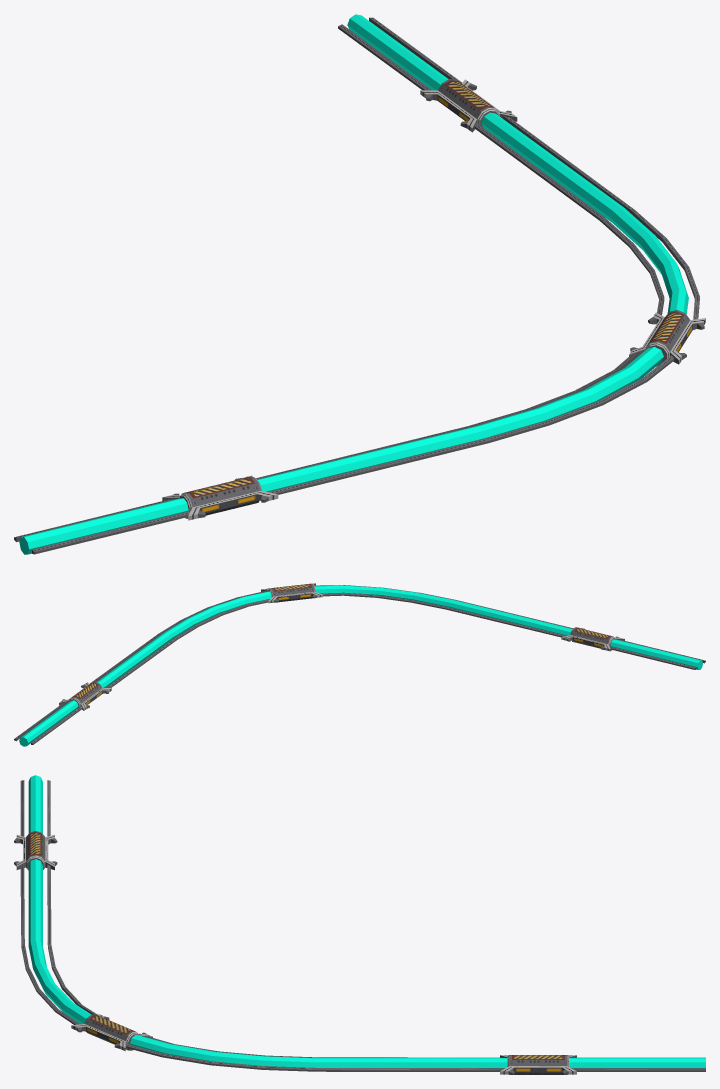
File: SM_Bld_Train_Rail_Curve_Short_01.fbx
3 views of the same model, one above another, from view 1: azimuth 30°, elevation 25°; view 2: azimuth 150°, elevation 25°; view 3: azimuth 270°, elevation 25° (orthographic). The views are drawn at different scales.
Visible parts, largest first — view 1: SM_Bld_Train_Rail_Curve_Short_01; view 2: SM_Bld_Train_Rail_Curve_Short_01; view 3: SM_Bld_Train_Rail_Curve_Short_01.
Part boxes in pixels (left/top/right/bottom): SM_Bld_Train_Rail_Curve_Short_01: left=14, top=14, right=705, bottom=554; SM_Bld_Train_Rail_Curve_Short_01: left=14, top=583, right=705, bottom=746; SM_Bld_Train_Rail_Curve_Short_01: left=14, top=775, right=705, bottom=1074.
Size of the model in its own units: 2581 by 76.14 by 2581.
